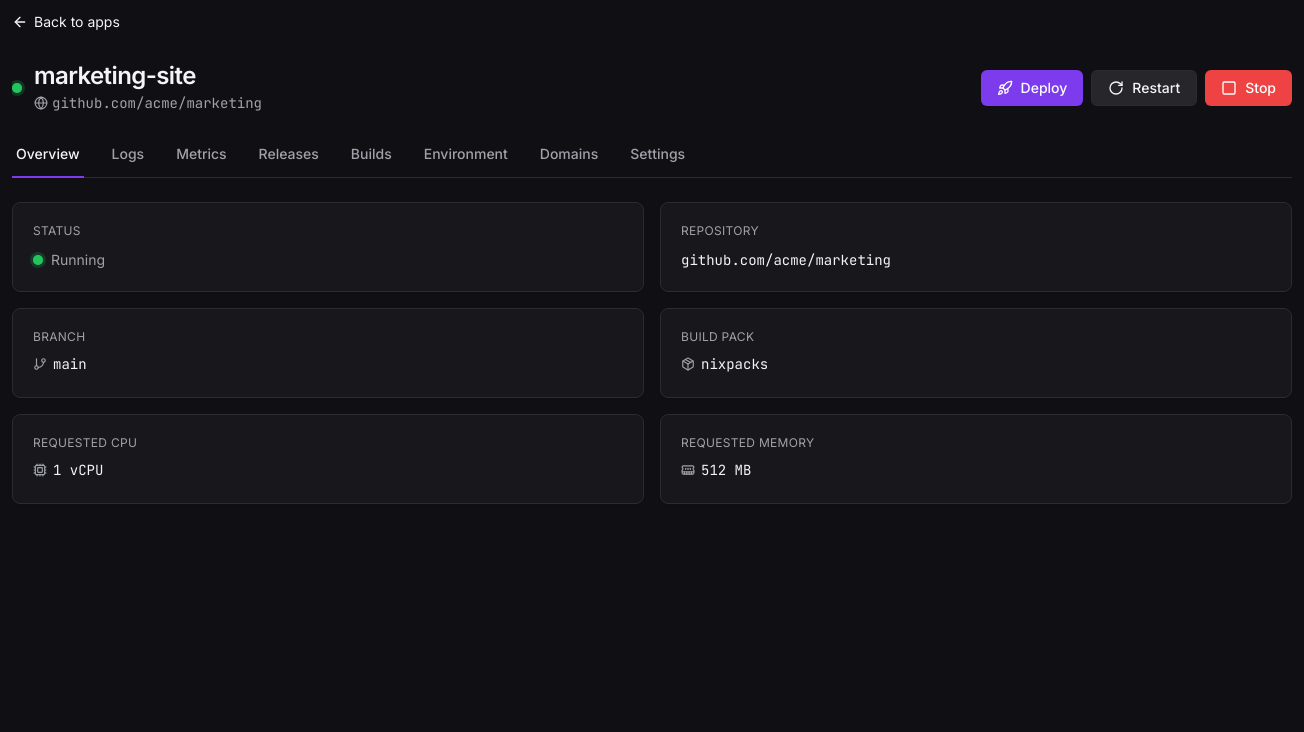
AppDetailPage — environment variables › shows the backend message when setting a variable fails
The image size is (1304, 732).
Expected: the heading "marketing-site" is shown, [34,61,196,90]
Click the tab "Environment" at (466, 159), box [420,140,512,178]
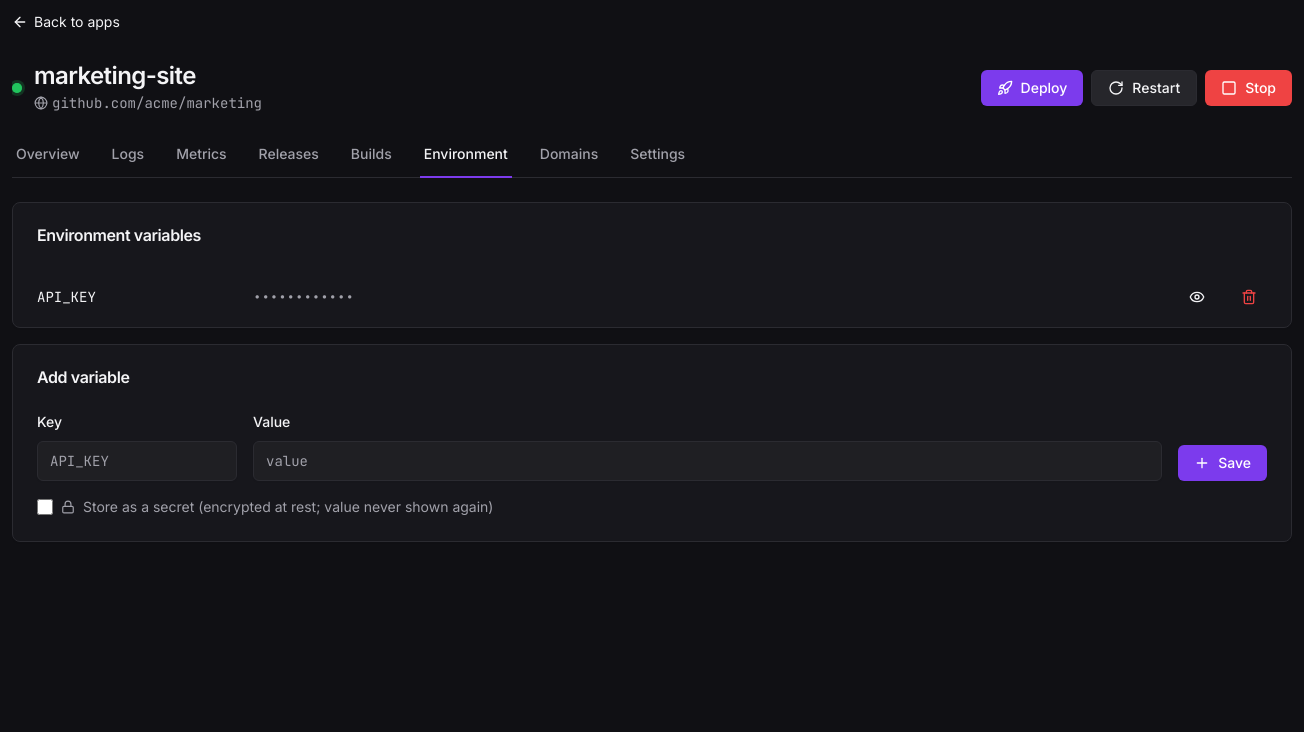
Type "BAD KEY" into the field labelled "Key" at (137, 461), box [37,441,237,481]
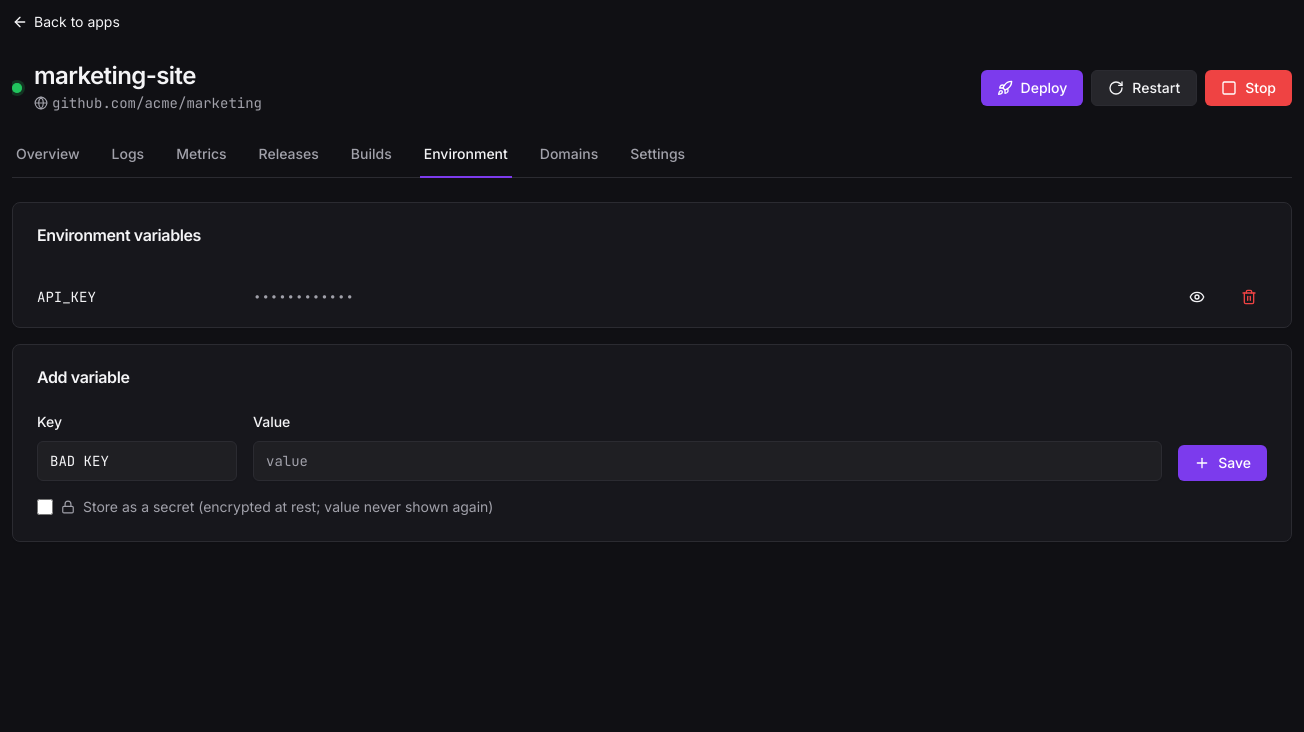
Click the button "Save" at (1223, 463), box [1178,445,1267,481]
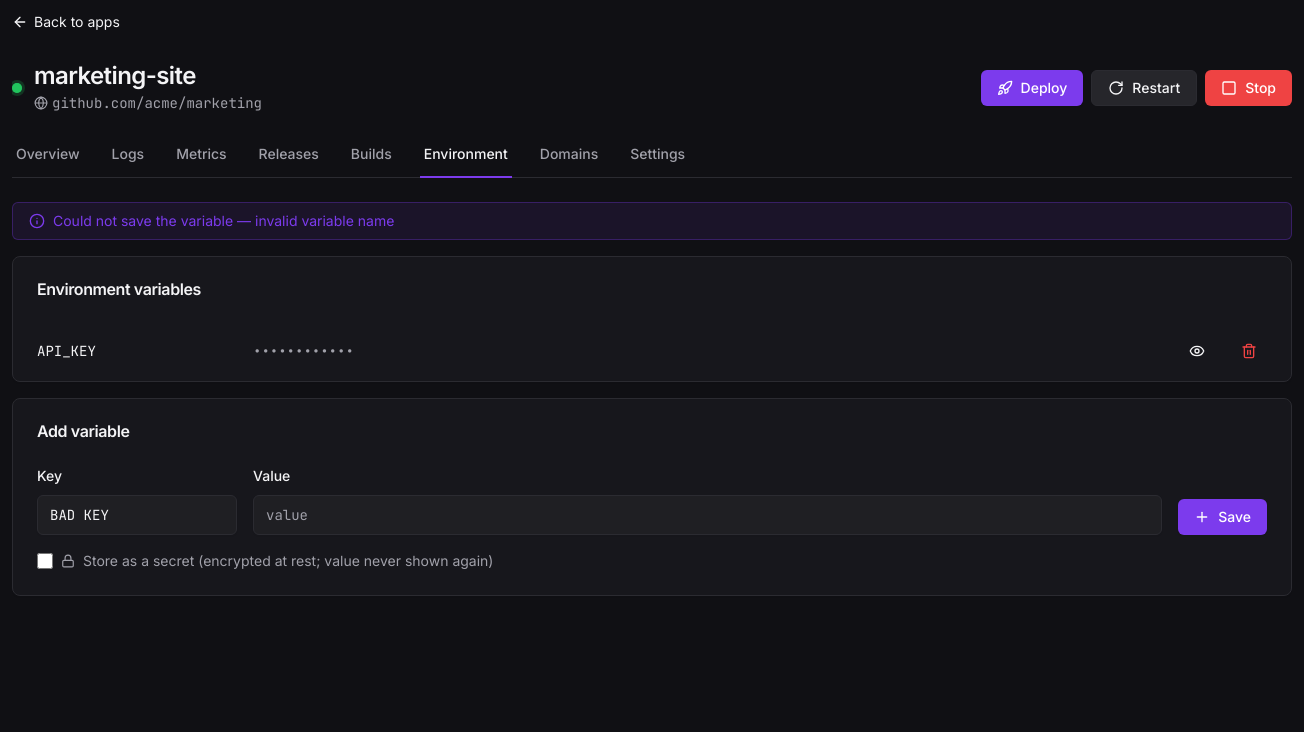
Result: the text "Could not save the variable — invalid variable name" is shown at [53,212,394,229]
